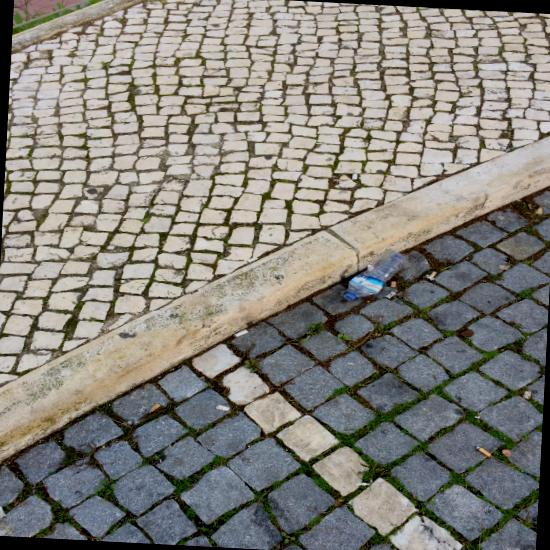Cigarette: (476, 446, 492, 457), (234, 329, 249, 337), (149, 404, 160, 413), (216, 405, 230, 411), (428, 272, 437, 280), (391, 282, 397, 287)
Clear plastic bottle: (342, 251, 407, 301)
